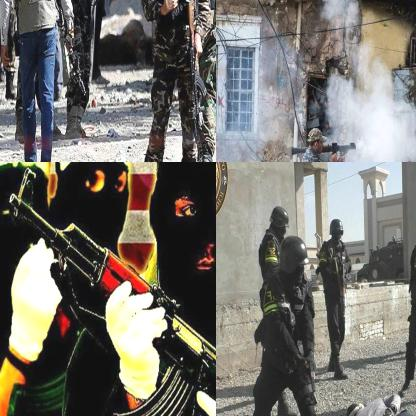pistol: (299, 353, 320, 399)
rifle: (3, 165, 215, 415), (183, 0, 209, 143), (288, 137, 361, 161)
